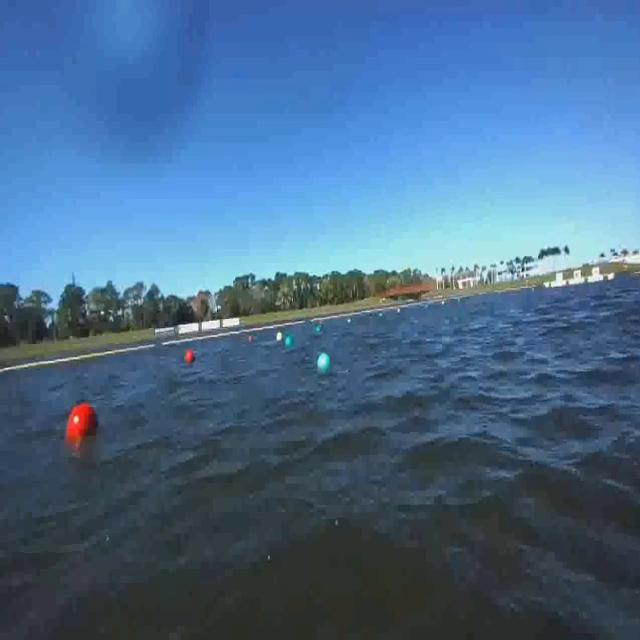green-buoy: (317, 351, 331, 372), (284, 334, 296, 349)
red-buoy: (68, 402, 104, 448), (185, 350, 194, 363)
